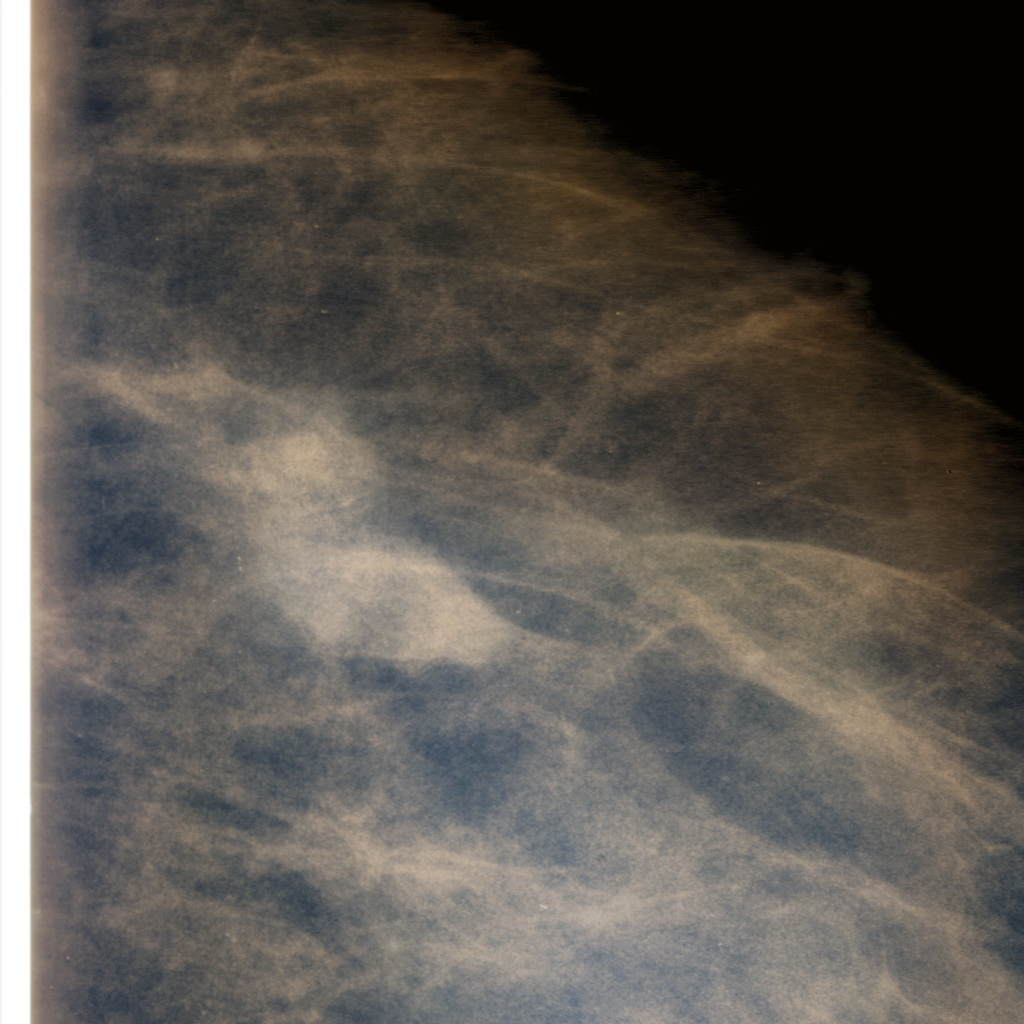tumor: (187, 344, 495, 680)
